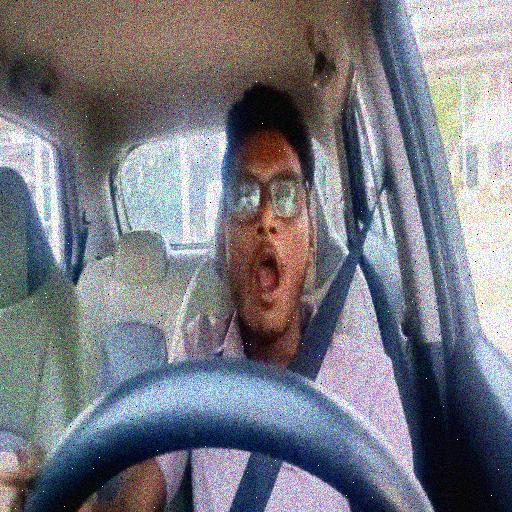yawns: (218, 88, 319, 343)
